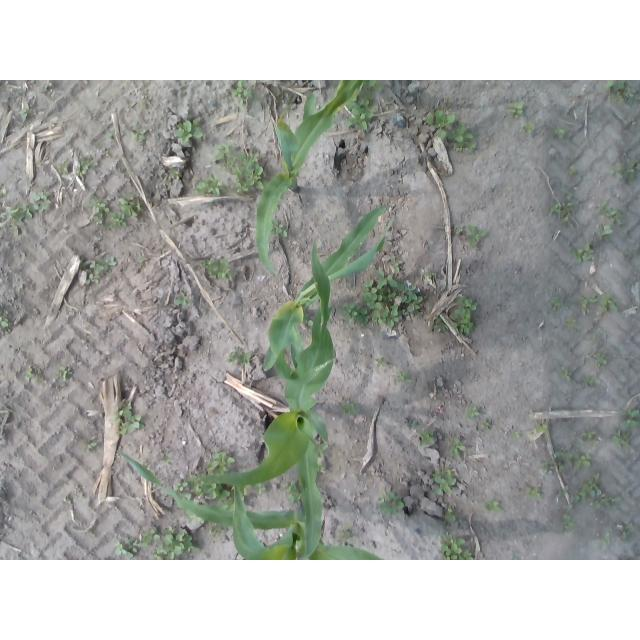Maize: (185, 238, 336, 560), (117, 450, 383, 560), (262, 204, 395, 372), (257, 81, 364, 275)
Weeds: (340, 271, 425, 333), (116, 524, 201, 561), (214, 139, 266, 193), (1, 191, 56, 233), (427, 109, 477, 152), (575, 473, 623, 510), (90, 196, 143, 229), (108, 397, 143, 435), (540, 449, 593, 474), (610, 408, 640, 452), (449, 296, 479, 337), (174, 481, 223, 504), (86, 255, 119, 285), (439, 532, 473, 561), (192, 171, 228, 197), (549, 190, 576, 224), (348, 98, 376, 130), (55, 156, 97, 177), (173, 116, 204, 144), (607, 159, 640, 185), (201, 257, 234, 282), (204, 450, 236, 474), (605, 80, 636, 104), (378, 489, 404, 517), (595, 200, 625, 224), (432, 469, 457, 496), (569, 241, 596, 265), (332, 520, 358, 544), (226, 346, 251, 370), (231, 80, 251, 109), (465, 224, 487, 249), (450, 437, 471, 463), (586, 350, 611, 371), (599, 291, 618, 317), (283, 481, 302, 506), (578, 291, 598, 314), (416, 426, 438, 446), (131, 122, 149, 146), (561, 505, 575, 535), (574, 429, 602, 444), (389, 257, 411, 276), (80, 434, 99, 454), (338, 400, 358, 419), (56, 365, 76, 382), (163, 170, 182, 187), (174, 293, 194, 308), (508, 101, 524, 119), (273, 221, 288, 240), (208, 524, 225, 540), (394, 370, 411, 386), (533, 421, 551, 436), (20, 101, 32, 123), (595, 226, 613, 240), (433, 315, 446, 334), (526, 486, 542, 501), (557, 484, 571, 501), (586, 331, 603, 345), (601, 532, 612, 553), (24, 365, 36, 384), (0, 316, 12, 335), (445, 508, 458, 525), (621, 522, 634, 539), (466, 405, 479, 422), (483, 500, 501, 512), (364, 80, 382, 92), (554, 124, 566, 141), (162, 452, 175, 467), (560, 367, 573, 382), (481, 417, 493, 433), (376, 356, 391, 368), (581, 375, 596, 387), (563, 316, 578, 328), (552, 297, 564, 312), (626, 245, 638, 258), (424, 270, 441, 279), (522, 125, 537, 135), (64, 494, 76, 506), (106, 128, 116, 142), (455, 225, 466, 237), (254, 484, 267, 494), (141, 99, 152, 110), (139, 258, 150, 269), (568, 165, 578, 175), (0, 187, 8, 199), (139, 80, 149, 89), (46, 81, 55, 90), (511, 431, 521, 439), (630, 118, 637, 127), (407, 420, 414, 428), (160, 245, 168, 251)
